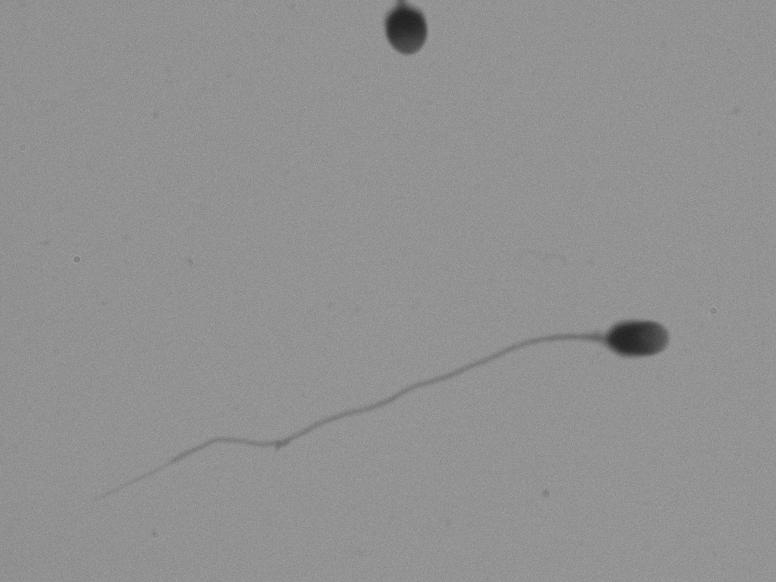Normal: (67, 306, 719, 508)
